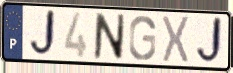4: (63, 11, 89, 61)
G: (128, 14, 158, 62)
J: (27, 8, 57, 60), (194, 15, 224, 67)
N: (92, 12, 126, 62)
X: (161, 14, 191, 66)
